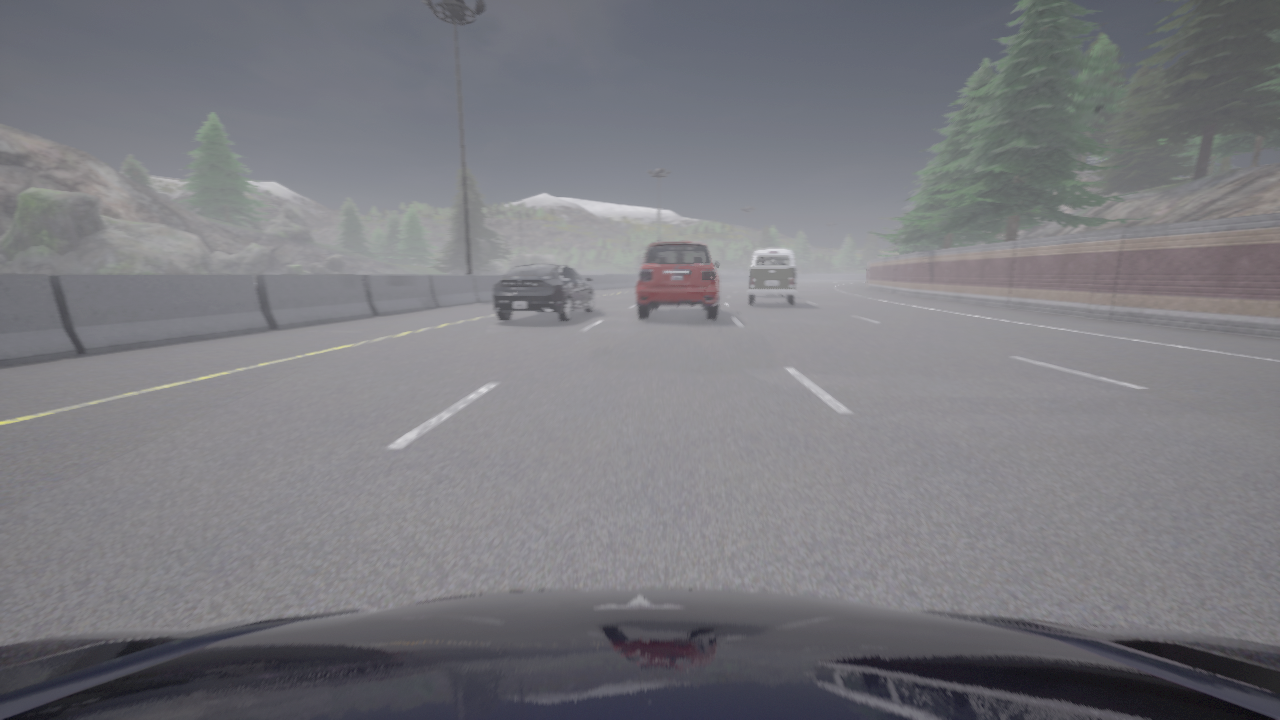cyclist: (0, 588, 1279, 719), (636, 241, 720, 318), (492, 262, 594, 321), (747, 248, 797, 305), (778, 294, 783, 296)
